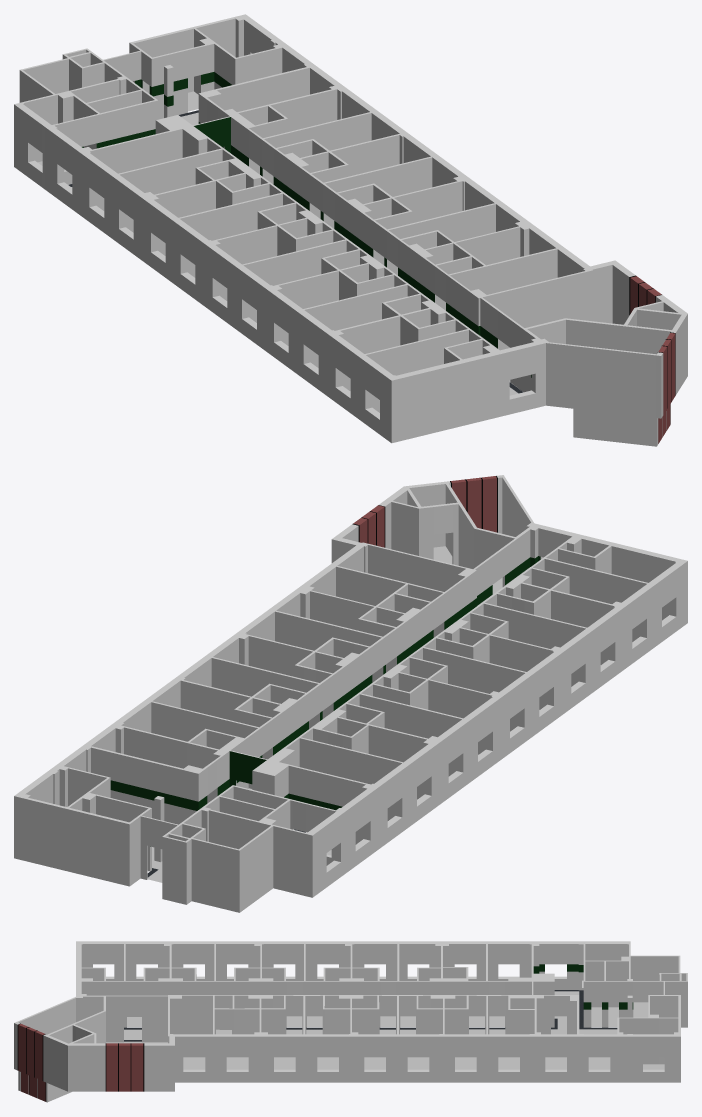
Rendered from Palata3_5thFloor.fbx.
3 views of the same model, one above another, from view 1: azimuth 30°, elevation 25°; view 2: azimuth 150°, elevation 25°; view 3: azimuth 270°, elevation 25° (orthographic). The views are drawn at different scales.
Visible parts, largest first — view 1: Plane; view 2: Plane; view 3: Plane.
Part boxes in pixels (x1,y1,x2,y2): Plane: (14,14,687,446); Plane: (14,475,687,912); Plane: (14,941,687,1102).
Size of the model in its own units: 2045 by 621 by 5582.
